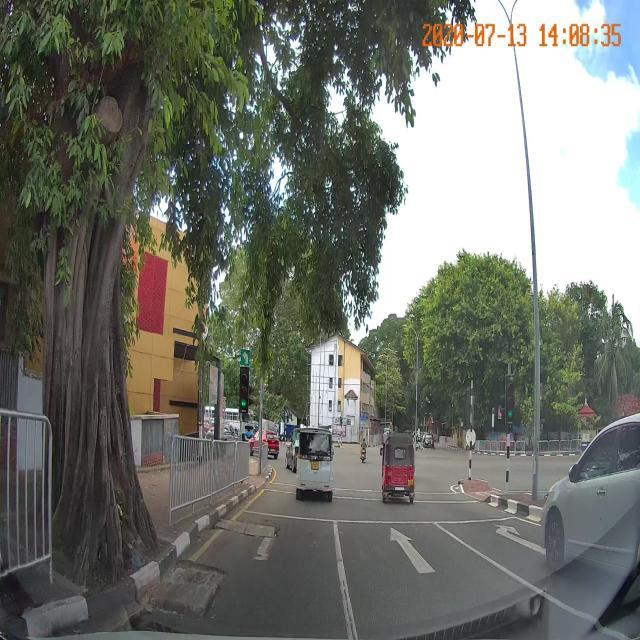forward: (336, 523, 502, 582)
